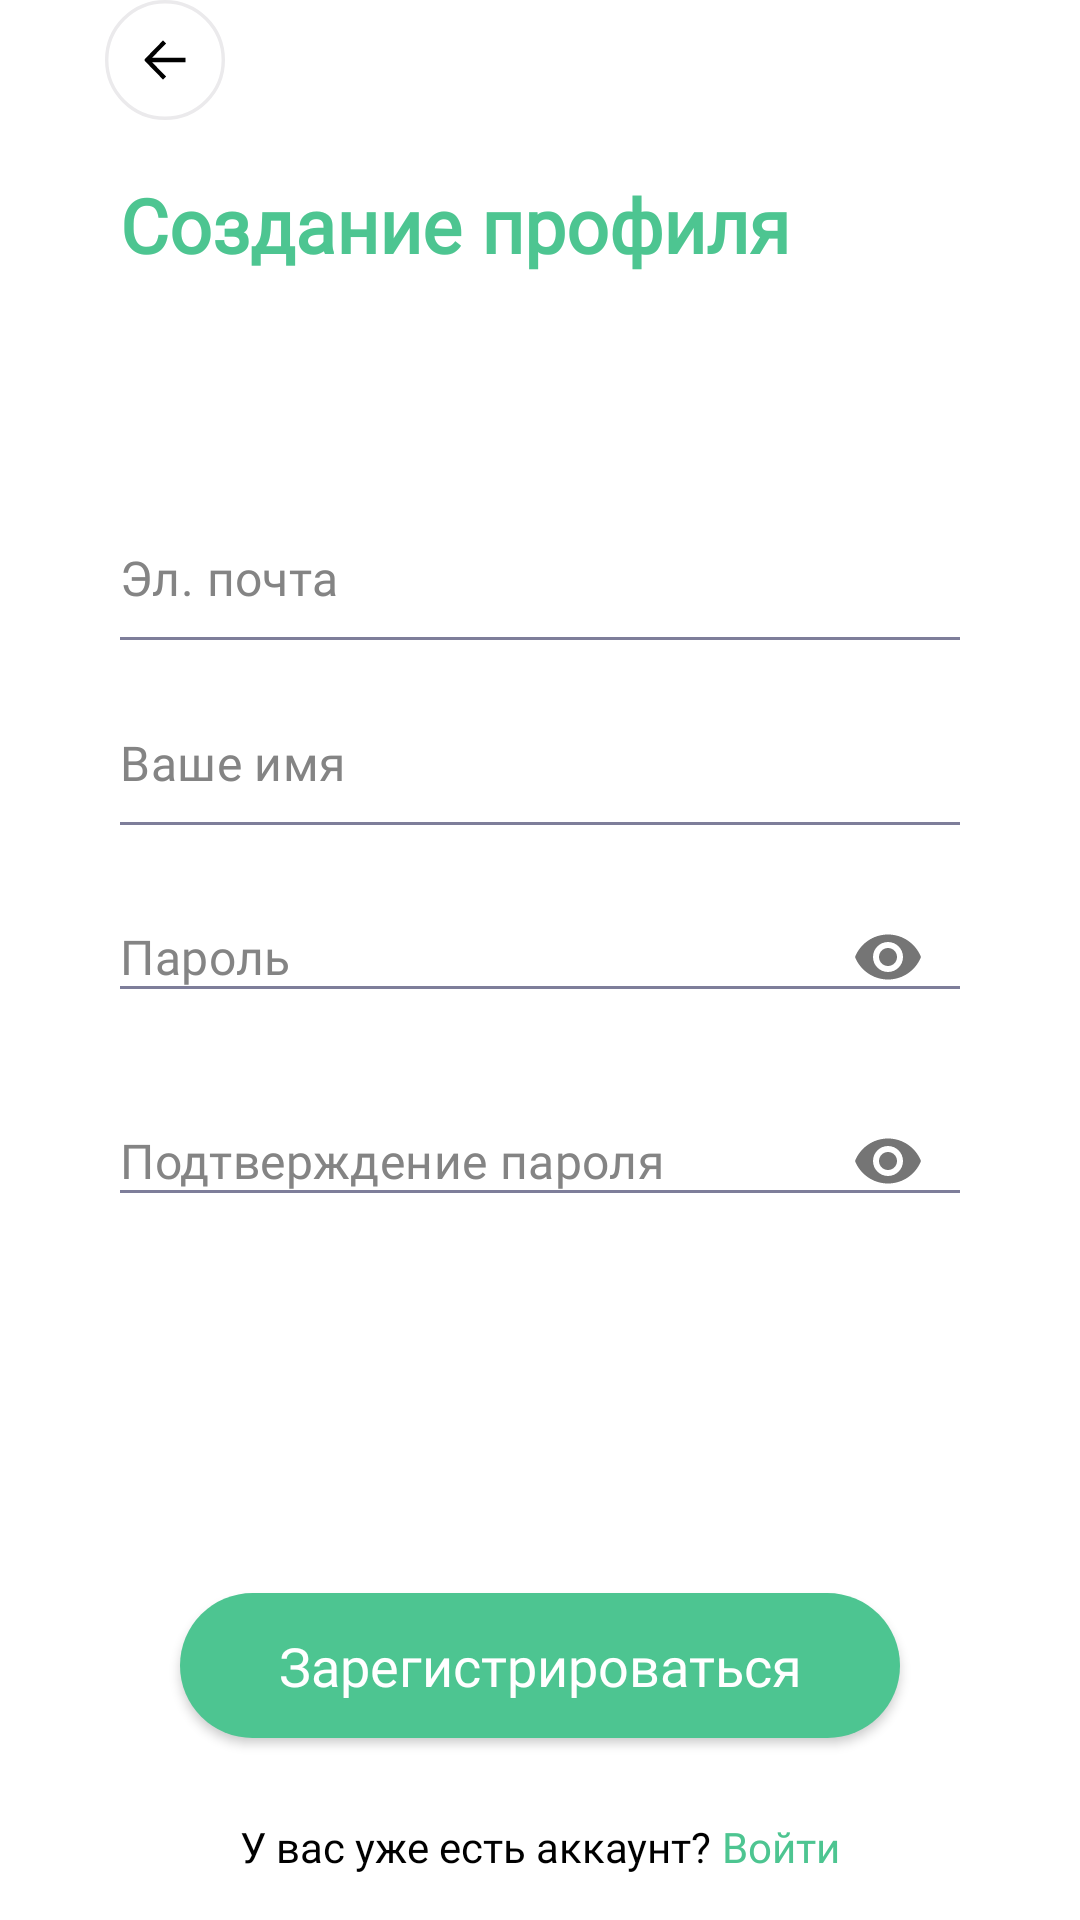

Where icons sit on this 1080 x 1920 app screen, as (x1, y1, x2, y2):
back: (144, 40, 186, 80)
